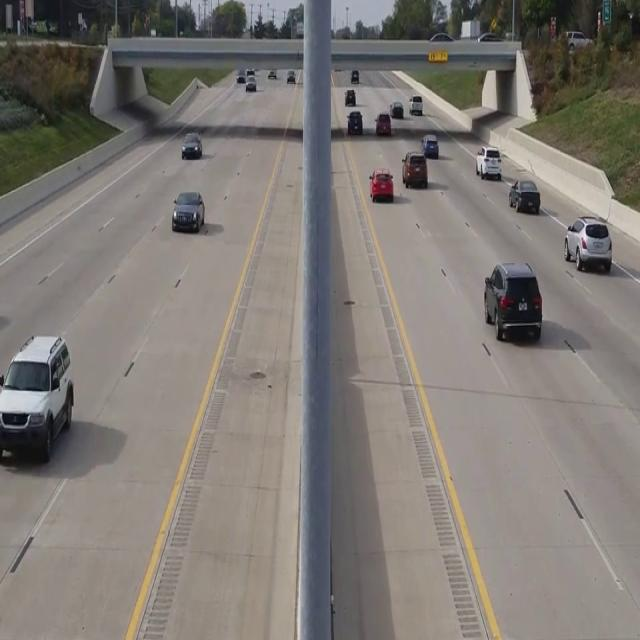car: (0, 333, 74, 465), (483, 260, 543, 342), (563, 215, 612, 272), (171, 191, 205, 232), (509, 179, 540, 213), (402, 152, 428, 187), (476, 145, 502, 179), (369, 168, 393, 202), (566, 30, 592, 51), (182, 133, 202, 159), (421, 134, 439, 159), (374, 112, 390, 135)
